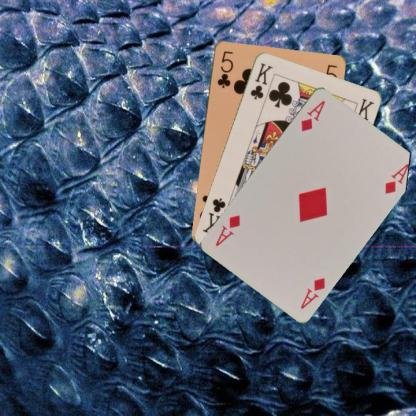5c: (214, 48, 235, 90)
Ad: (298, 97, 327, 133), (298, 274, 326, 310)
Kc: (247, 60, 274, 101)
